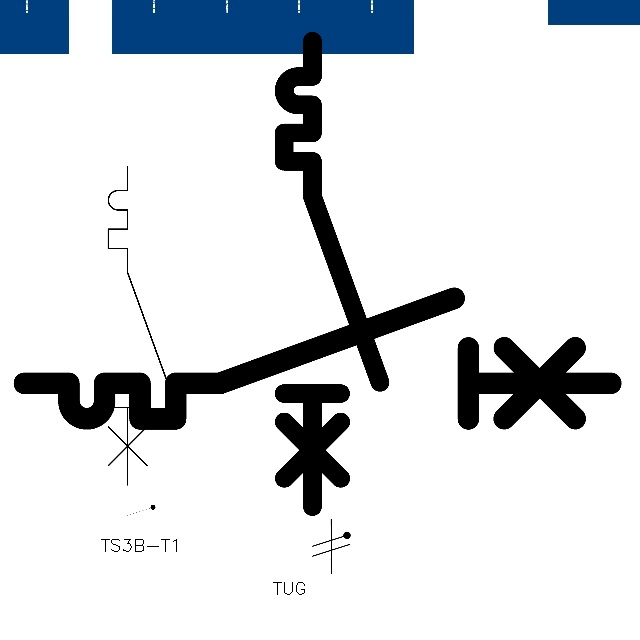interruptor_termomagnetico: (9, 283, 625, 434), (272, 29, 392, 519), (100, 158, 182, 493)
